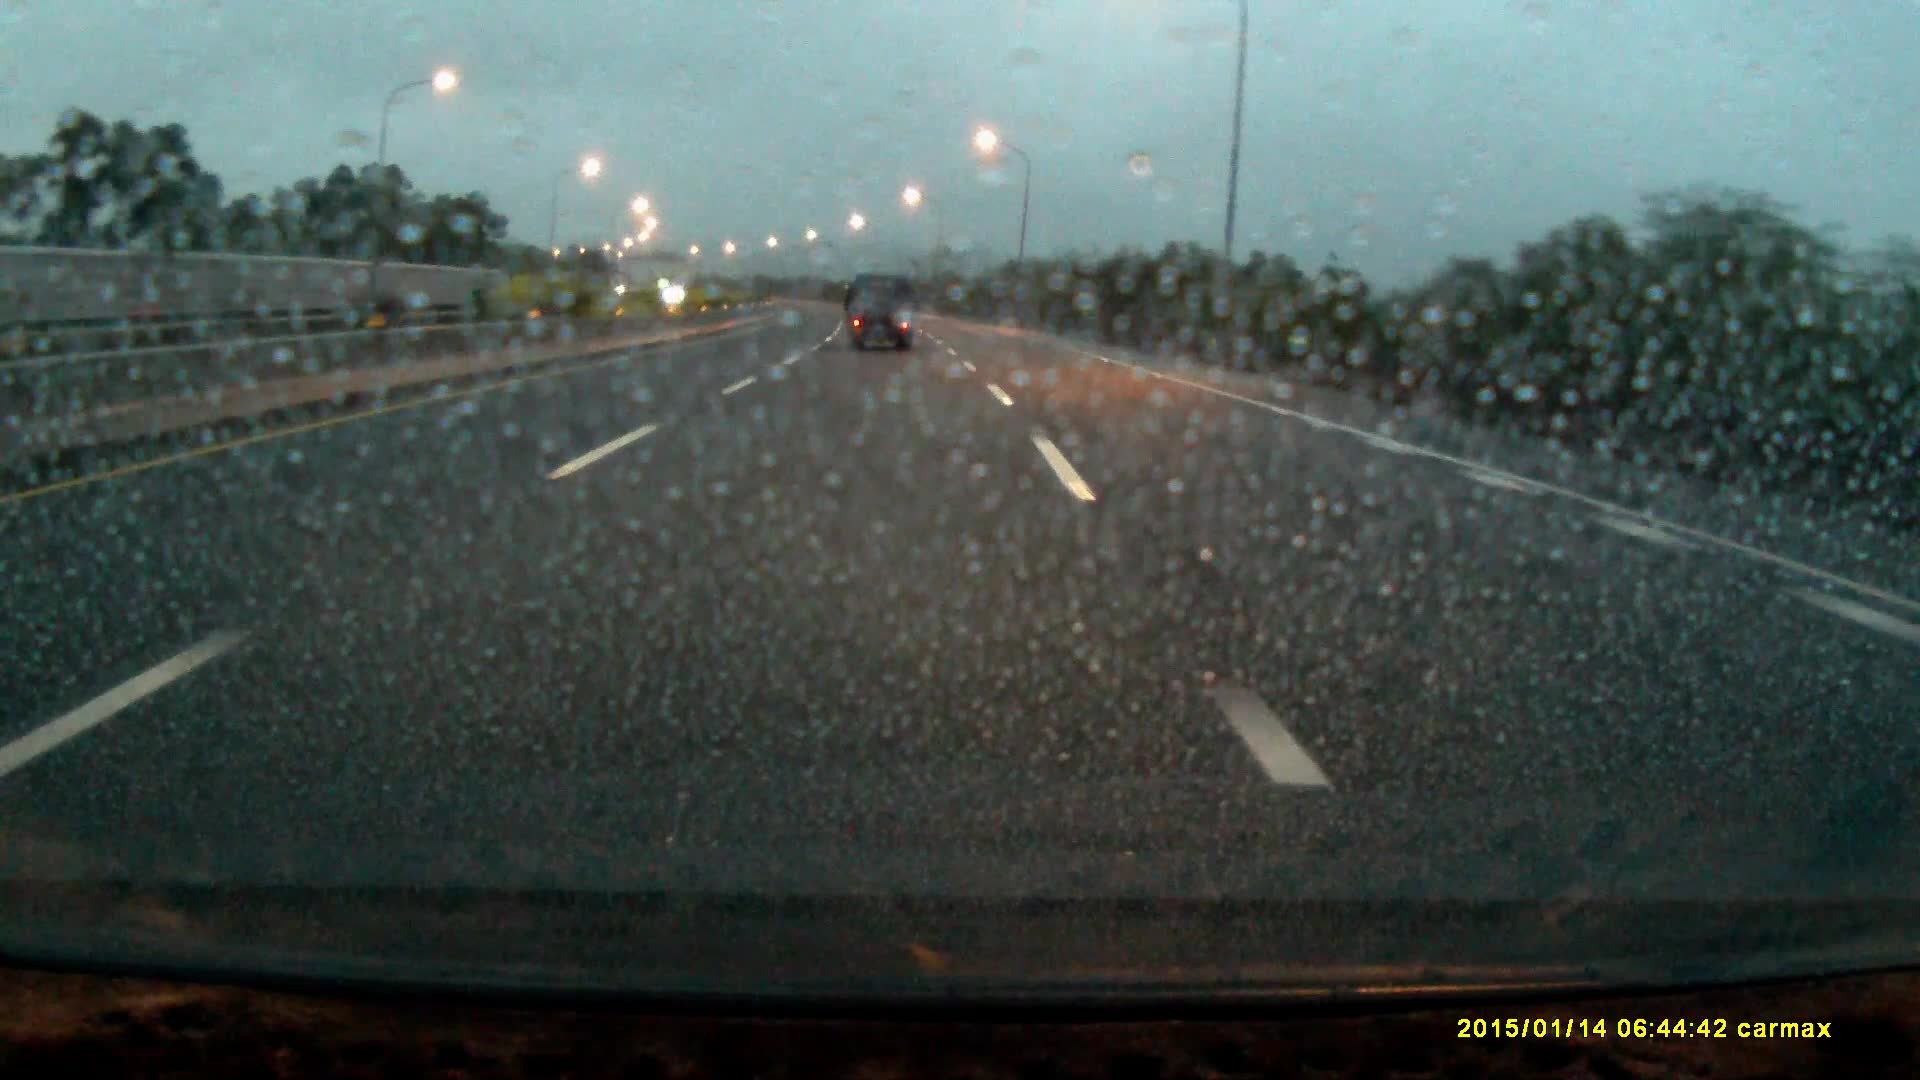vehicle: (849, 273, 914, 353)
